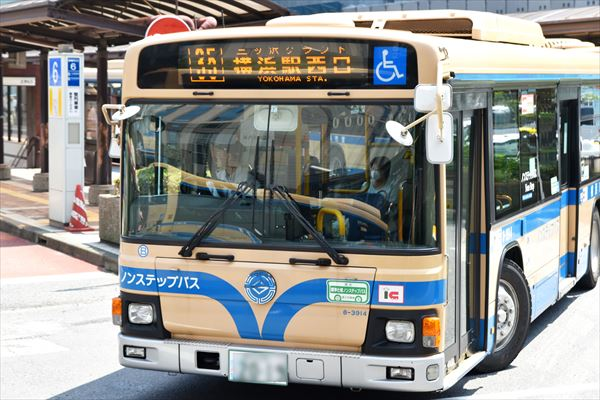destination: (177, 42, 369, 86)
